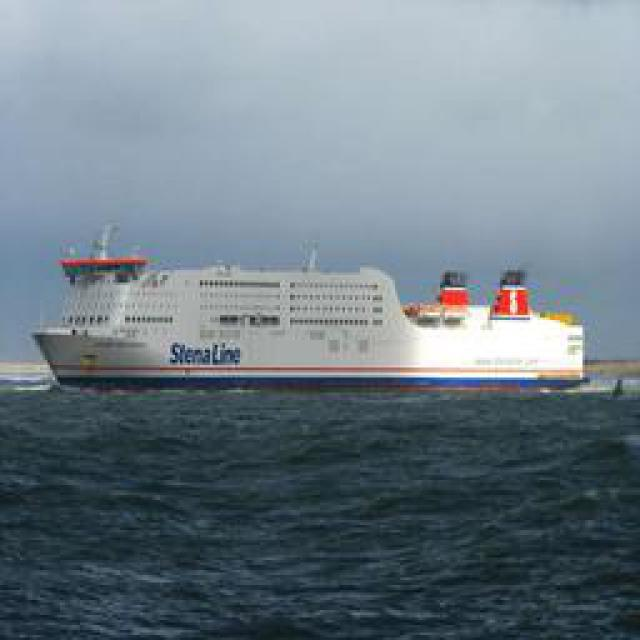Ship: (29, 241, 612, 399)
